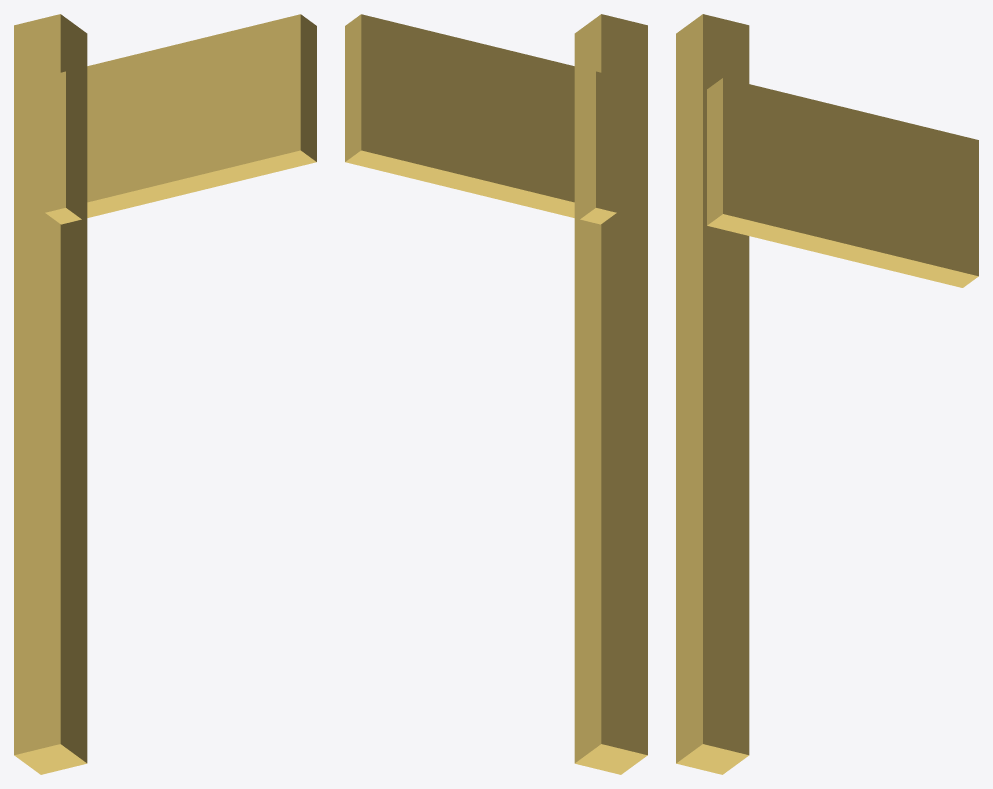
The model's file is profile-marker.glb.
The picture shows the model from 3 angles, left to right: view 1: azimuth 30°, elevation 25°; view 2: azimuth 150°, elevation 25°; view 3: azimuth 330°, elevation 25°; orthographic projection.
Parts seen in each view (by area): view 1: NesmenProfileMarker; view 2: NesmenProfileMarker; view 3: NesmenProfileMarker.
Boxes of the visible parts, x1,y1,x2,y2 form: NesmenProfileMarker: (14, 14, 316, 774); NesmenProfileMarker: (345, 14, 647, 774); NesmenProfileMarker: (676, 14, 978, 774).
Size of the model in its own units: 0.605 by 1.5 by 0.1.
